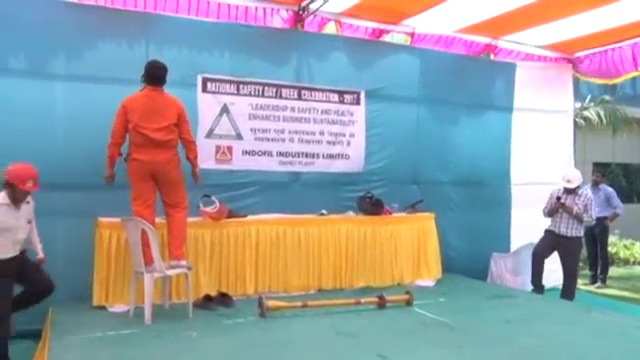helmet: (2, 161, 41, 195), (561, 167, 583, 191)
helmet_off: (140, 57, 168, 89), (590, 167, 606, 186)
helmet_on: (1, 161, 41, 211), (561, 166, 584, 197)
person: (106, 58, 200, 270), (1, 160, 58, 359), (529, 168, 595, 306), (587, 165, 624, 292)
